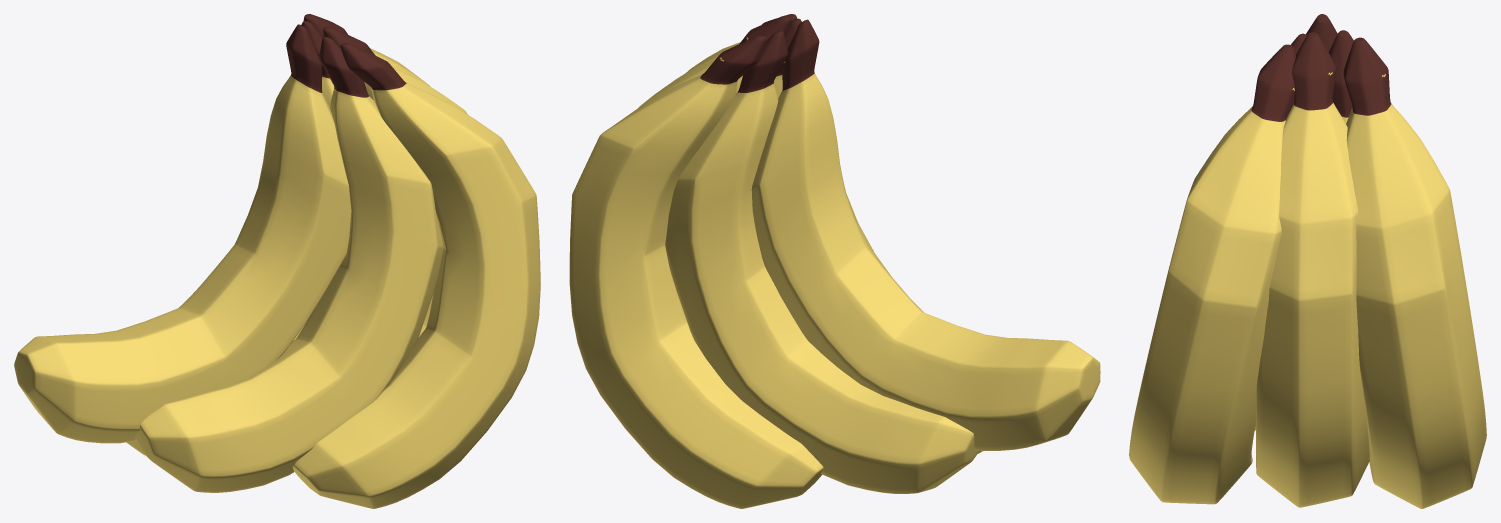
Rendered from P_banane.fbx.
The picture shows the model from 3 angles, left to right: view 1: azimuth 30°, elevation 25°; view 2: azimuth 150°, elevation 25°; view 3: azimuth 270°, elevation 25°; orthographic projection. The views are drawn at different scales.
Parts seen in each view (by area): view 1: Cylinder014; view 2: Cylinder014; view 3: Cylinder014.
Boxes of the visible parts, box(x1,y1,x2,y2) form: Cylinder014: box(14, 14, 540, 508); Cylinder014: box(569, 14, 1100, 508); Cylinder014: box(1129, 14, 1486, 508).
Size of the model in its own units: 11.46 by 10.45 by 7.12.
